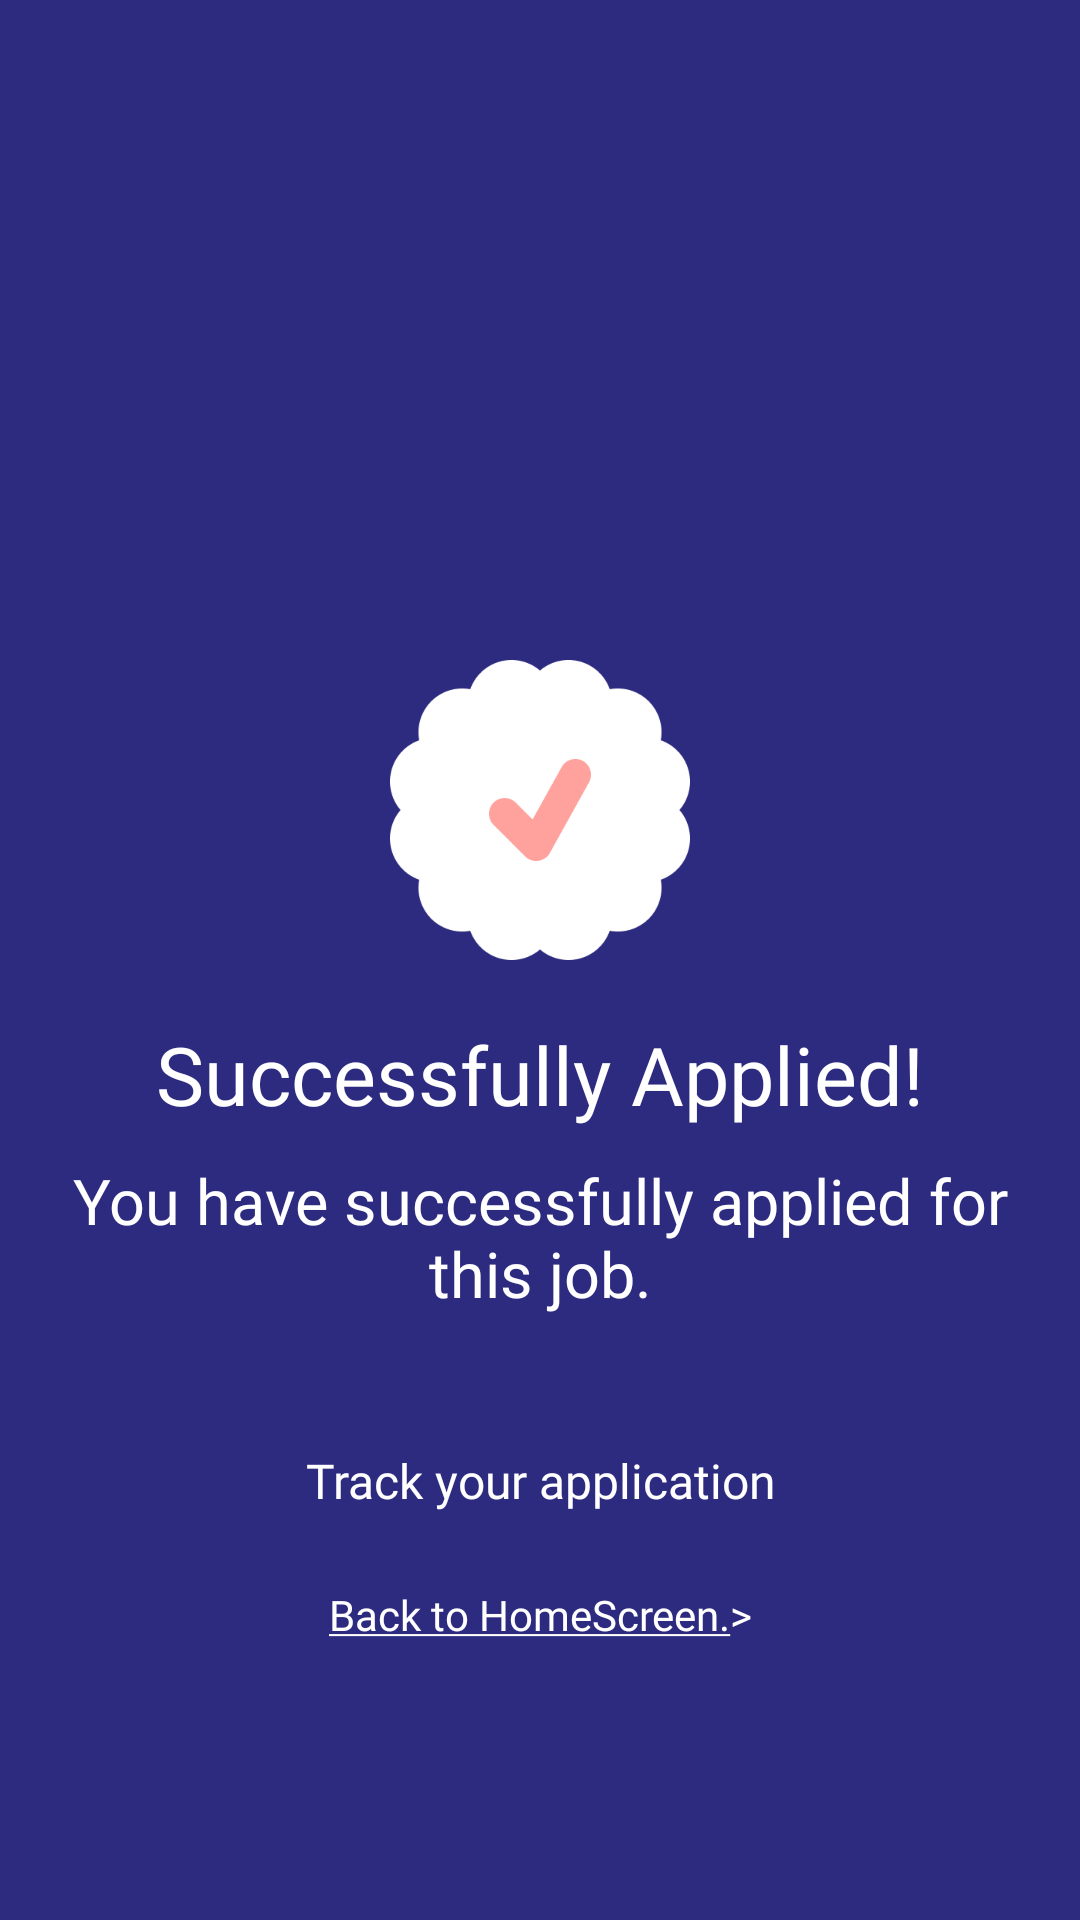

Icons on this 1080*1920 Android screen, each with its box as (x1, y1, x2, y2):
success mark: (390, 660, 690, 960)
